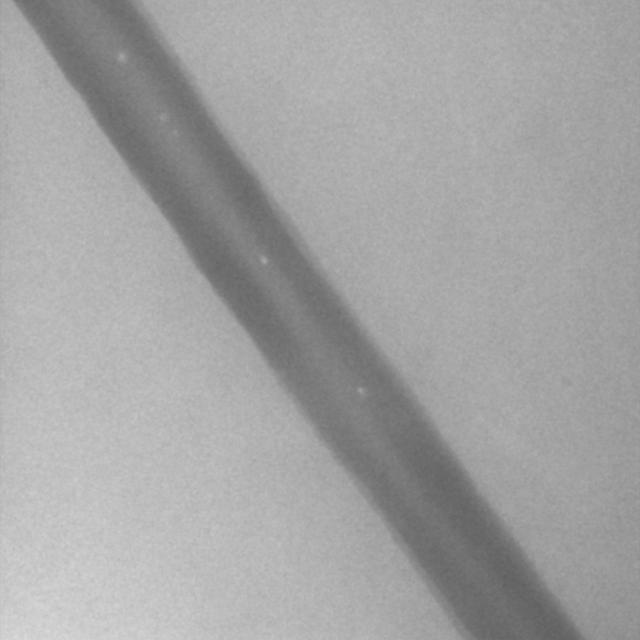air-hole: (117, 49, 130, 65), (356, 381, 367, 399), (160, 113, 168, 125), (262, 253, 270, 265), (174, 132, 181, 141)
